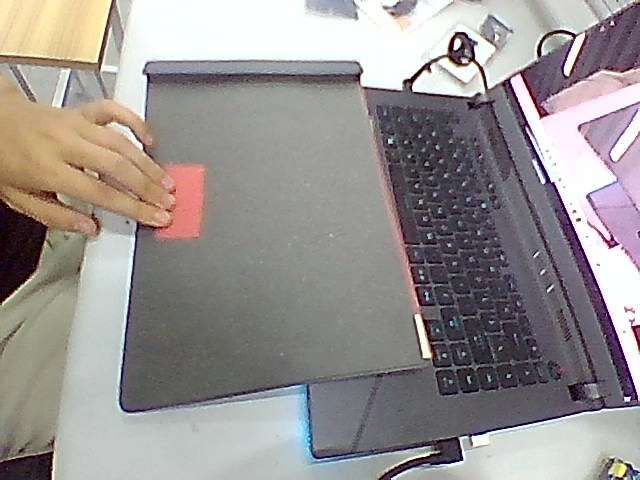card: (155, 164, 204, 239)
